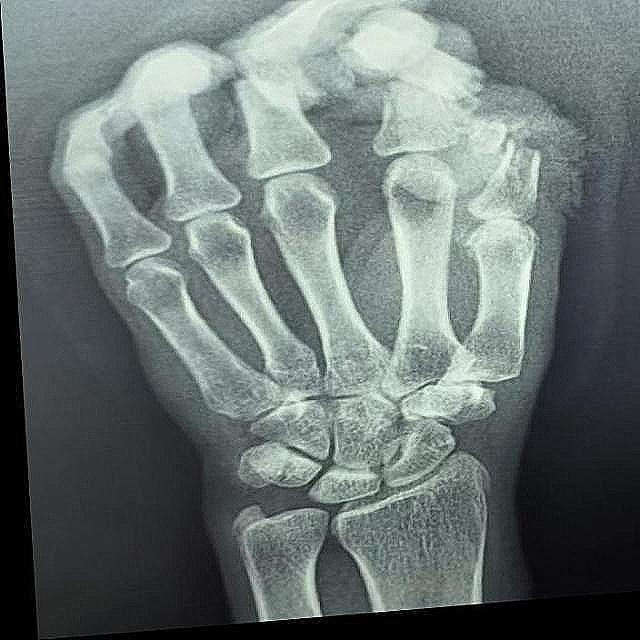bone: (368, 58, 490, 126), (227, 41, 314, 121), (480, 130, 556, 190)
